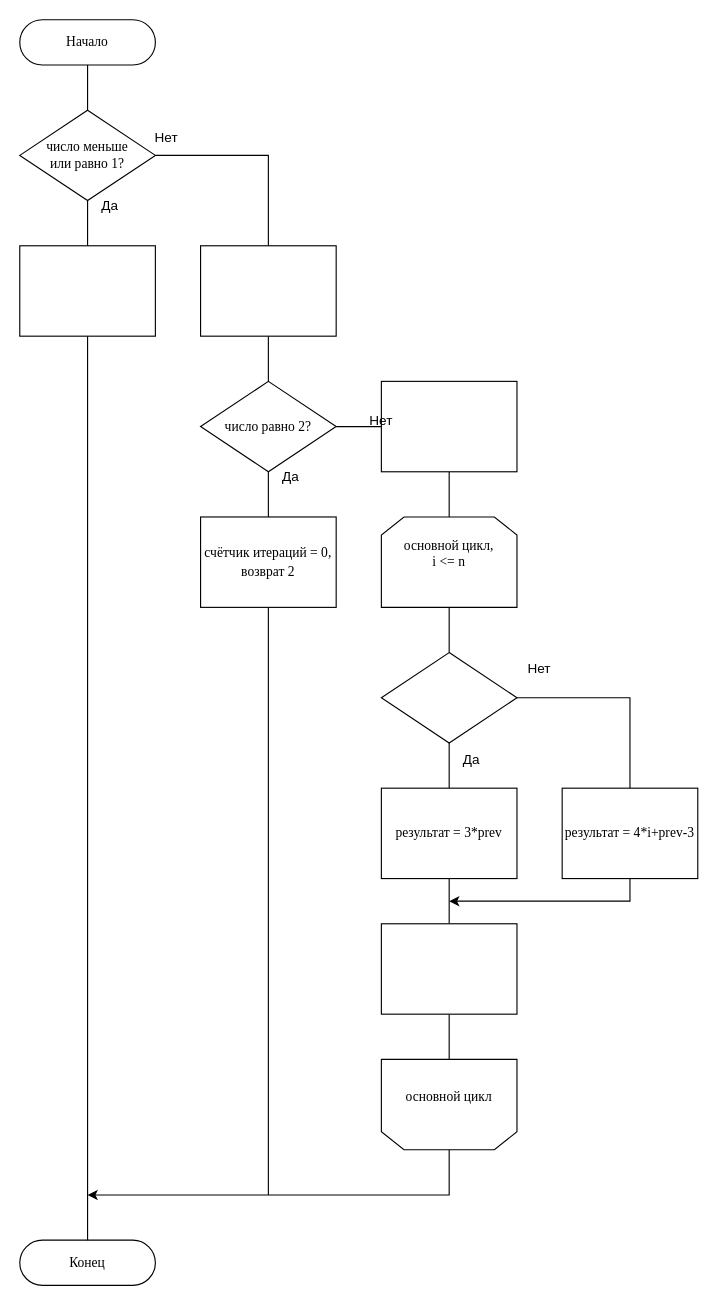
Some shapes in this 718 by 1305 pixel diagram are drawn without their labels. Here are the shapes that lost their labels. From the top down, the box of each, then its label:
(19, 245, 155, 336): счётчик итераций = 0, возврат 1
(199, 245, 336, 336): prev = 3
(380, 380, 517, 472): инициализация переменных результат и количество вызовов
(380, 651, 517, 743): i чётное?
(380, 923, 517, 1014): prev = результат, увеличиваем счётчик итераций
